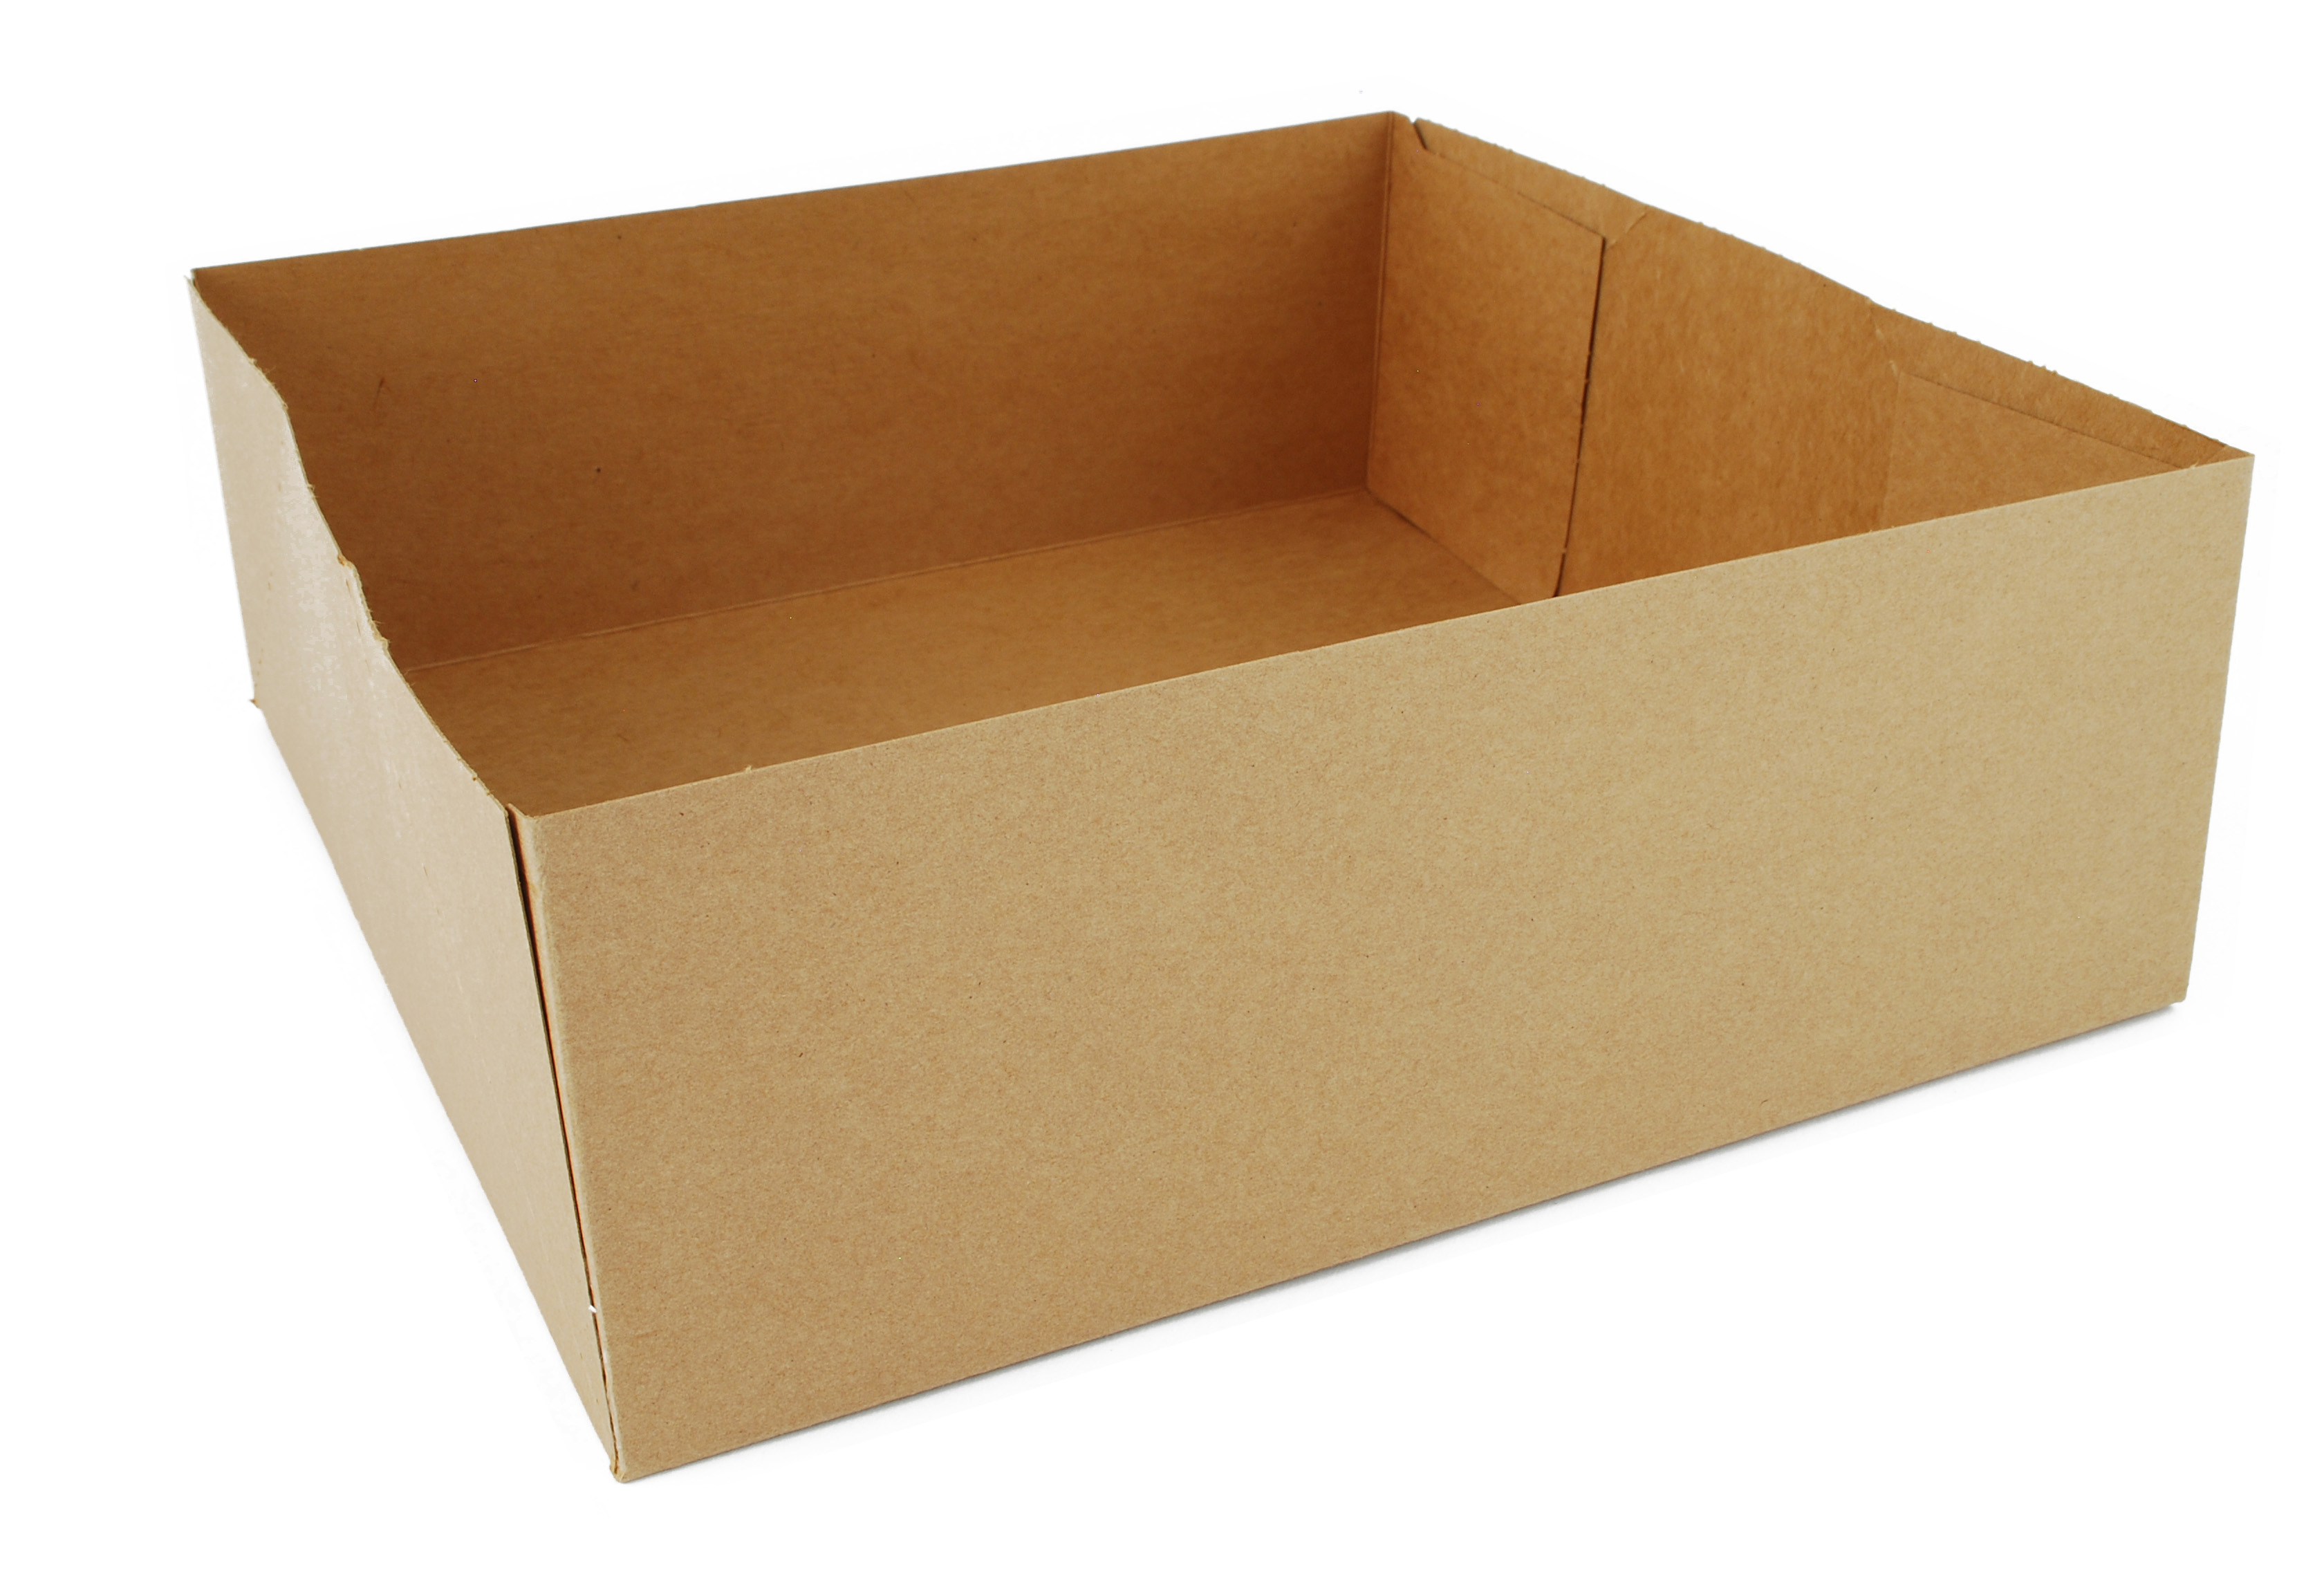Rec_Paper: (125, 80, 2312, 1505)
